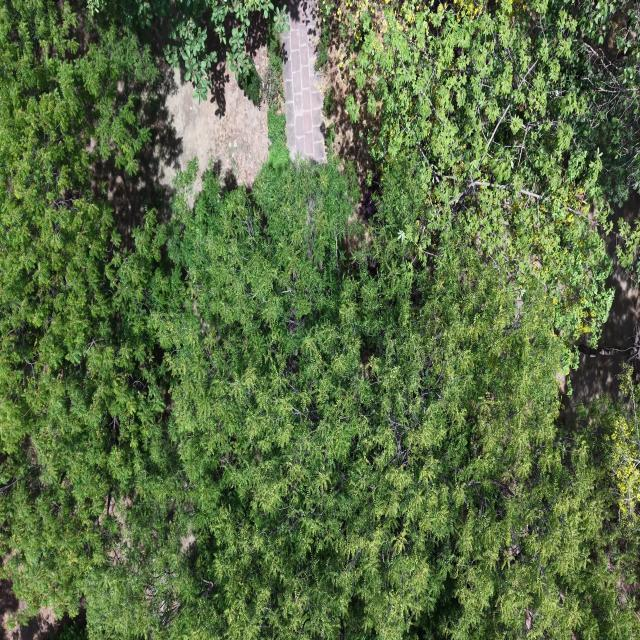DRY_AREA: (95, 52, 269, 244), (94, 60, 268, 243), (94, 61, 268, 240), (94, 63, 268, 240), (98, 63, 268, 229), (284, 0, 379, 221), (558, 235, 639, 424), (561, 234, 639, 424), (562, 239, 638, 423), (316, 11, 381, 221), (159, 67, 268, 186), (161, 68, 268, 186), (161, 75, 268, 185), (0, 580, 60, 639), (3, 607, 61, 639), (0, 580, 19, 639)
PATHWAYS: (283, 0, 326, 162)
VEGETATION_TREE: (0, 0, 639, 639), (3, 165, 637, 637), (159, 166, 637, 637), (321, 0, 639, 336), (0, 0, 166, 615), (337, 0, 639, 208), (88, 0, 288, 101), (578, 366, 639, 528)
